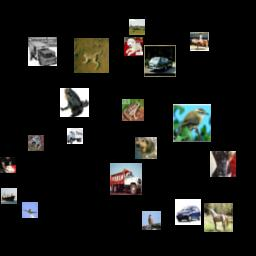airplane: (129, 19, 145, 35), (22, 202, 38, 218)
automobile: (144, 45, 176, 77), (175, 199, 201, 225)
bird: (173, 104, 211, 142), (142, 211, 161, 230)
cat: (28, 135, 44, 151)
dog: (210, 151, 236, 177), (135, 137, 157, 159), (124, 37, 143, 56), (0, 157, 16, 173)
frog: (74, 38, 109, 73), (60, 88, 89, 117), (122, 99, 144, 121)
ship: (1, 188, 17, 204)
truck: (110, 163, 142, 195), (28, 37, 57, 66), (67, 128, 83, 144)
